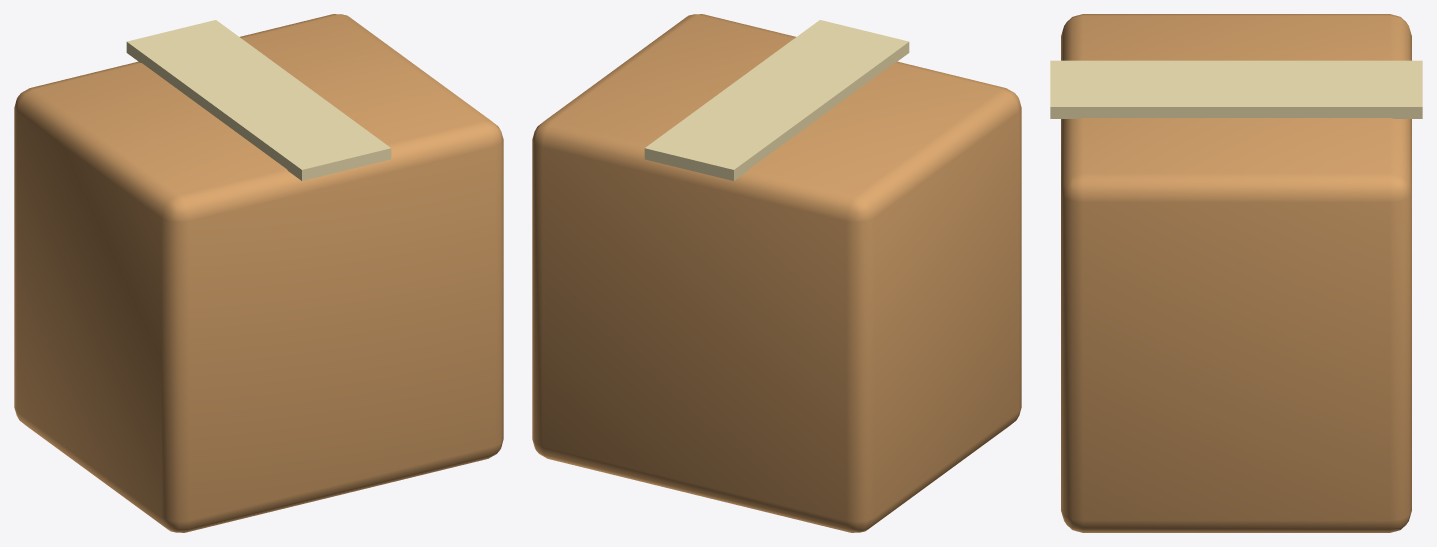
The model's file is icon_place.glb.
3 renders of one model, left to right at view 1: azimuth 30°, elevation 25°; view 2: azimuth 150°, elevation 25°; view 3: azimuth 270°, elevation 25°, orthographic. The views are drawn at different scales.
Visible parts, largest first — view 1: icon_place; view 2: icon_place; view 3: icon_place.
Boxes of the visible parts, box(x1,y1,x2,y2) form: icon_place: box(14, 14, 503, 532); icon_place: box(532, 14, 1021, 532); icon_place: box(1050, 14, 1422, 532).
Size of the model in its own units: 0.38 by 0.371 by 0.34.
